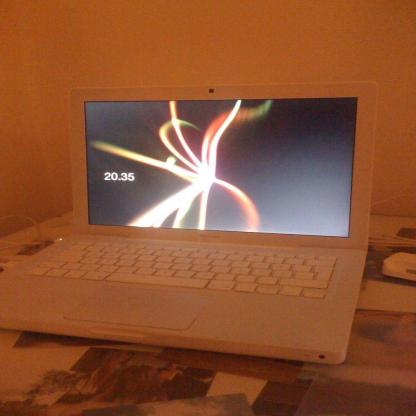board: (5, 85, 375, 377)
